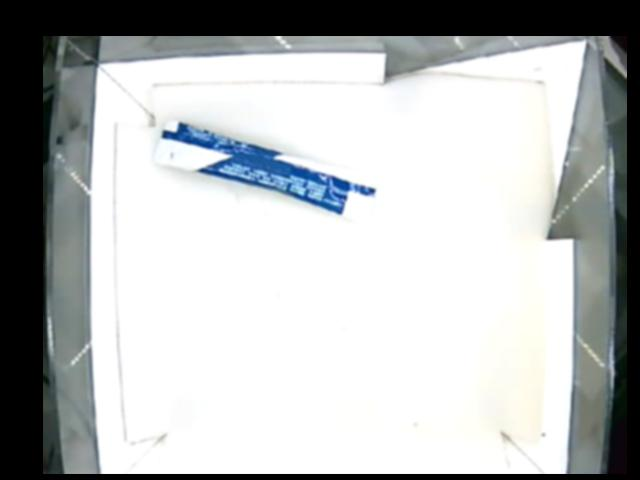Medicine: (151, 117, 378, 222)
